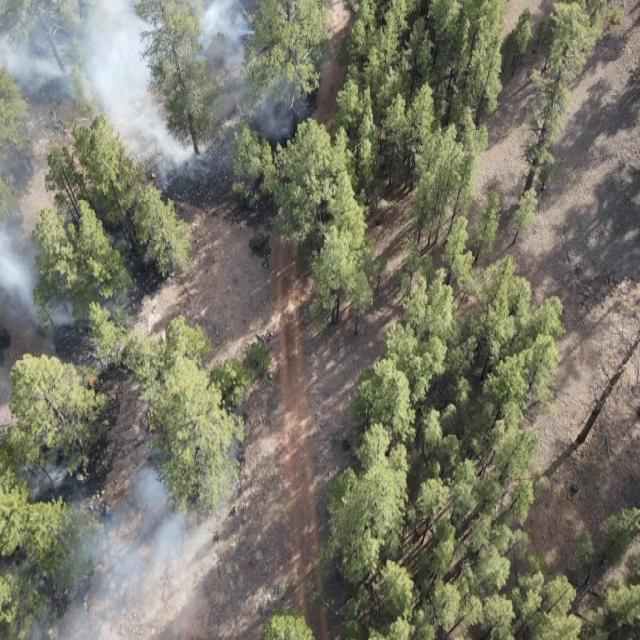fire: (84, 374, 100, 391), (144, 423, 156, 441)
smoke: (0, 444, 239, 640), (0, 0, 296, 140), (0, 210, 78, 338), (124, 139, 242, 187)
